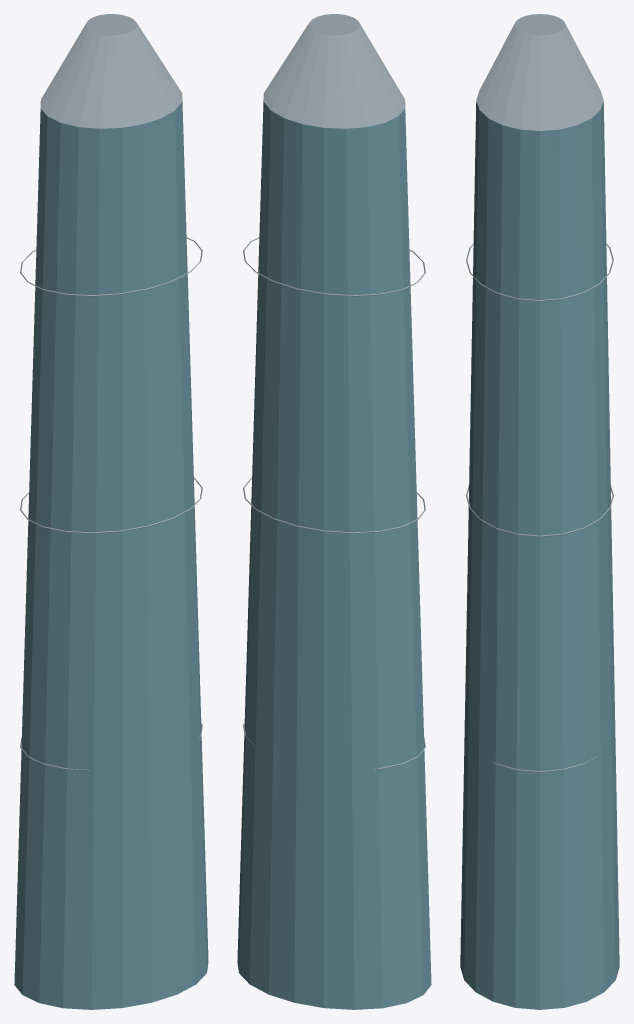
The model's file is source.glb.
3 renders of one model, left to right at view 1: azimuth 30°, elevation 25°; view 2: azimuth 150°, elevation 25°; view 3: azimuth 270°, elevation 25°, orthographic.
Parts seen in each view (by area): view 1: worldgen; view 2: worldgen; view 3: worldgen.
Part boxes in pixels (x1=…): worldgen: x1=14, y1=14, x2=208, y2=1009; worldgen: x1=237, y1=14, x2=431, y2=1009; worldgen: x1=460, y1=14, x2=619, y2=1009.
Bounding box in the file's own units: 64 × 326 × 50.
